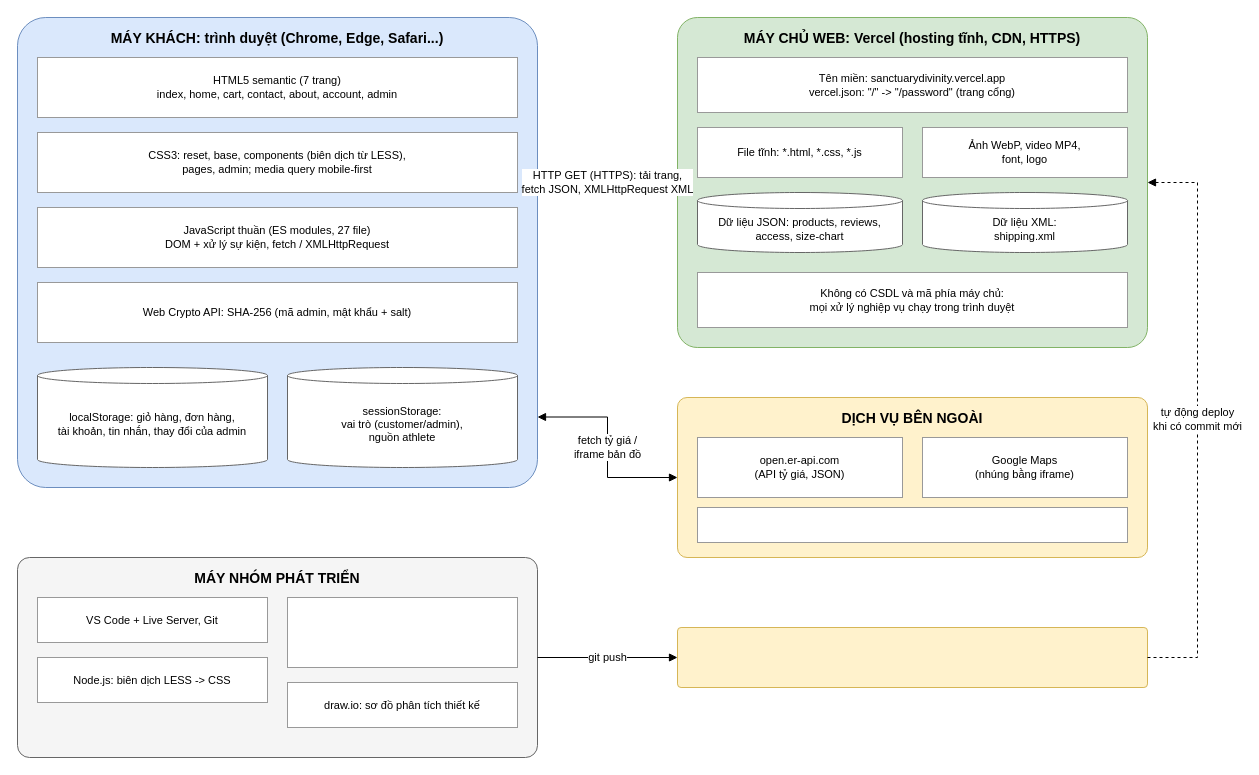
This 1259x775 diagram has some shape labels left out. Each missing label, with the centre of its shape:
Dự phòng: mất mạng thì dùng tỷ giá cố định trong currency.js: point (912, 524)
GitHub thaikhuonganhduc/sanctuarydivinity: point (912, 657)
Python: crawl dữ liệu mẫu, tạo JSON, bảng size (ANSUR II), nén ảnh/video: point (402, 632)
